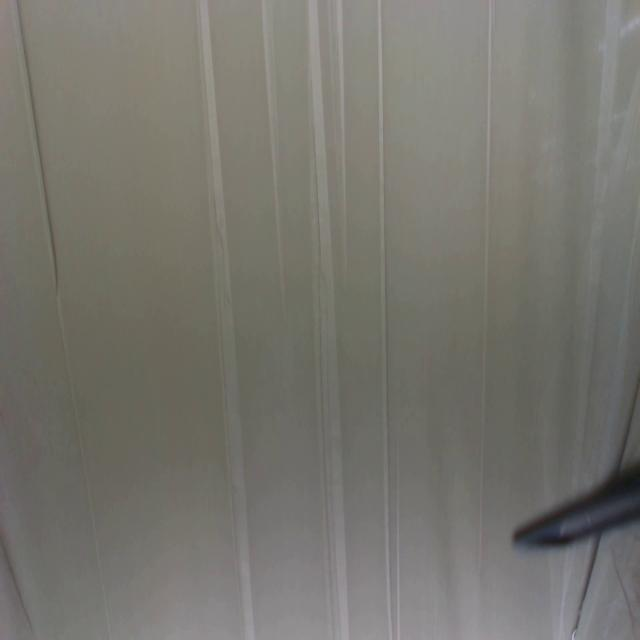crease: (13, 0, 111, 639), (198, 0, 254, 640), (306, 0, 349, 640), (574, 2, 623, 476), (477, 0, 494, 574), (377, 0, 392, 640), (260, 0, 286, 297), (0, 536, 34, 636), (573, 537, 604, 640), (394, 442, 402, 639)
